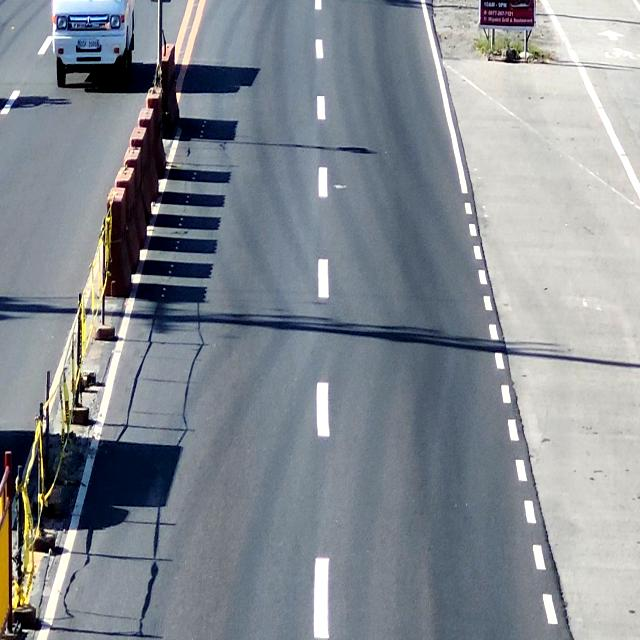License-Plate: (77, 36, 102, 54)
